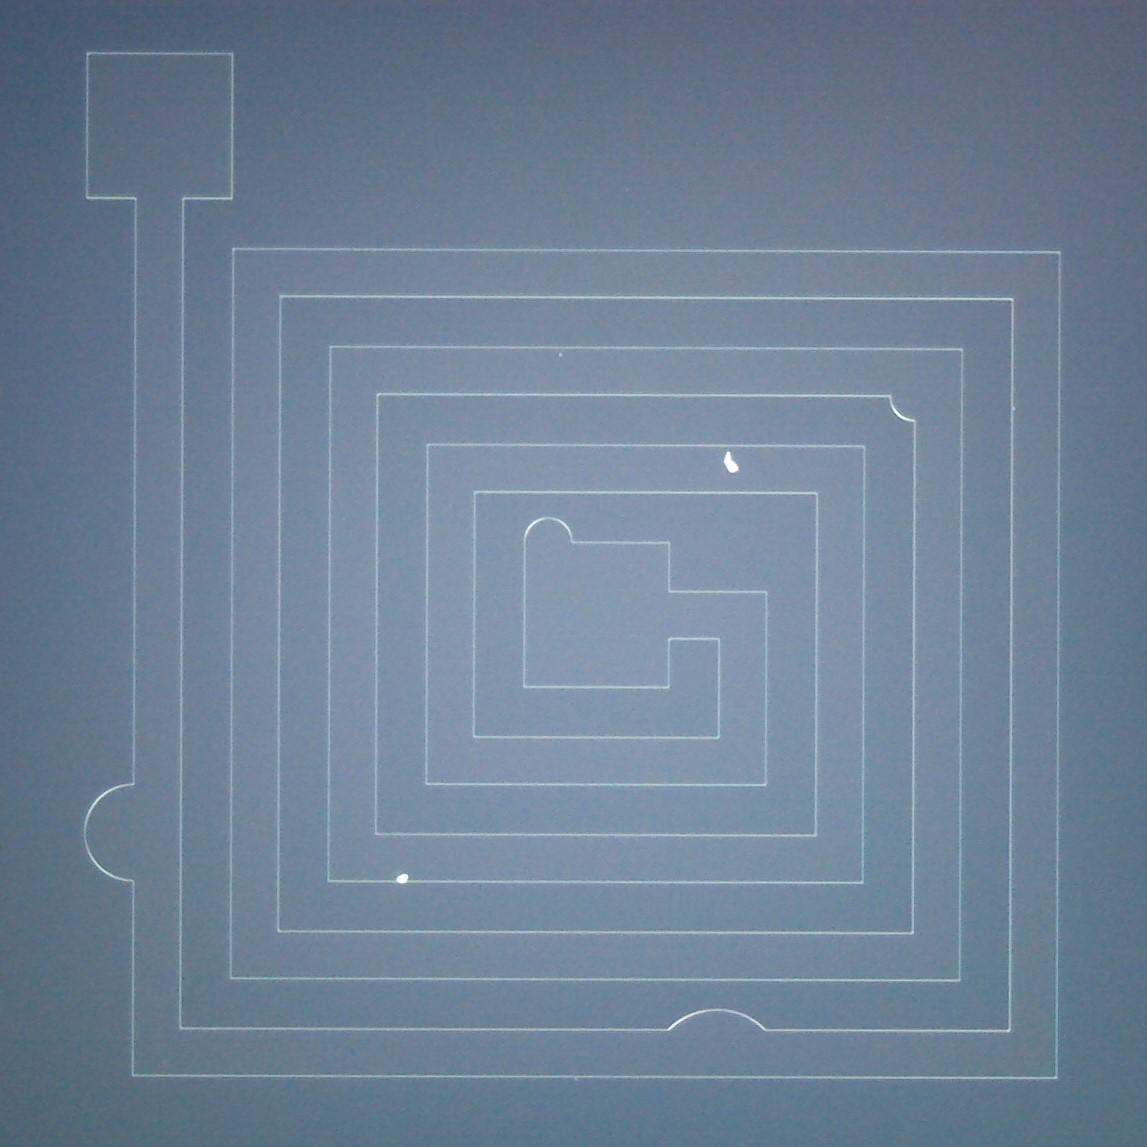B_point: (715, 444, 744, 478), (387, 864, 419, 891)
project: (870, 326, 979, 436), (75, 764, 160, 903), (655, 1001, 780, 1056), (508, 506, 592, 587)
s_point: (551, 343, 570, 367)
